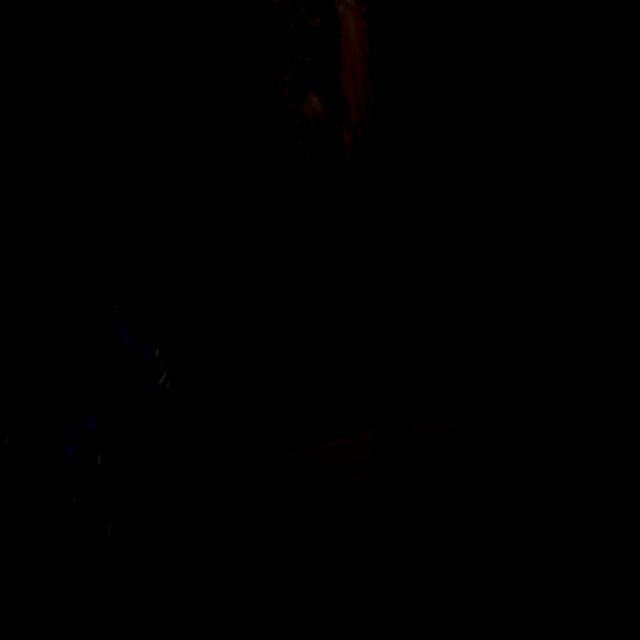Dog: (324, 334, 454, 528)
